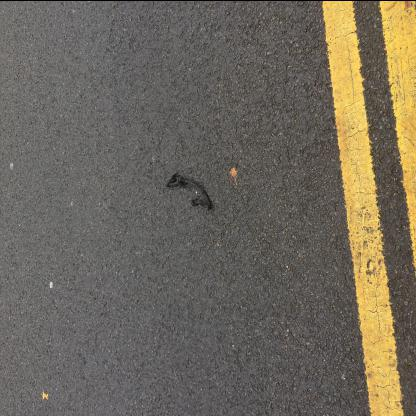diger: (166, 171, 212, 209)
